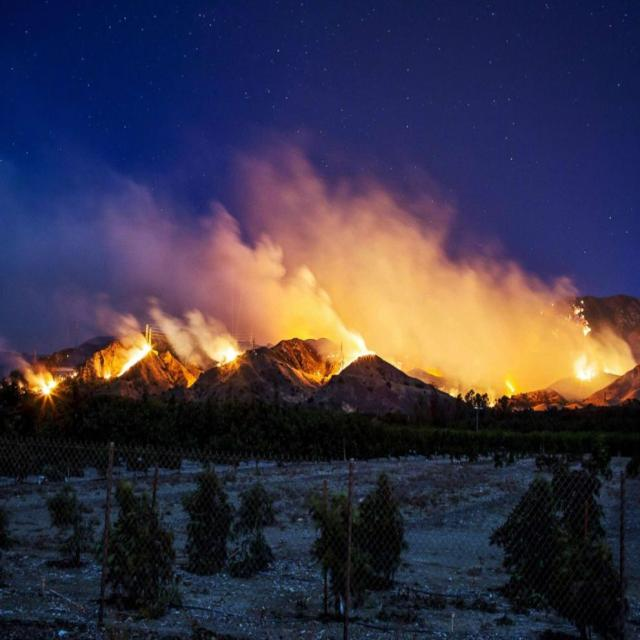Fire: (346, 334, 385, 375), (118, 347, 155, 381), (28, 378, 62, 407), (574, 352, 600, 386), (501, 374, 533, 399), (220, 348, 252, 370)
Smoke: (113, 191, 632, 363)
